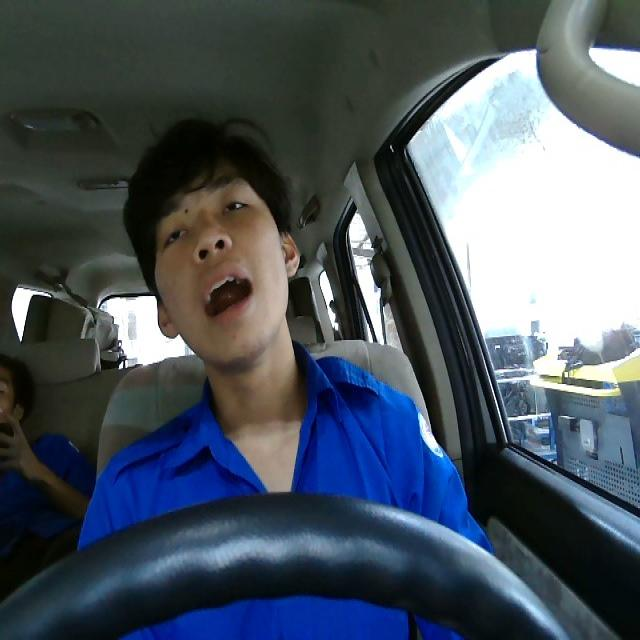yarning: (152, 171, 300, 369)
